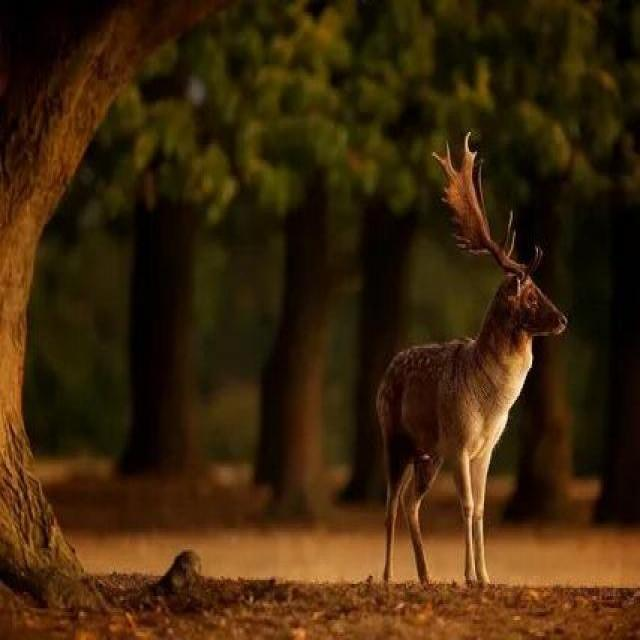deer: (310, 103, 582, 606)
